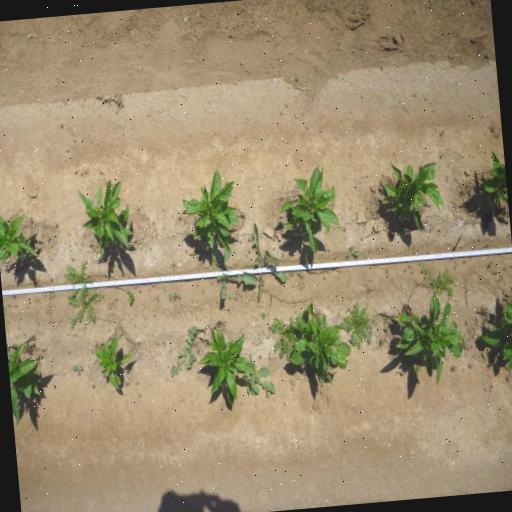plant: (391, 292, 465, 387), (275, 162, 344, 258), (289, 302, 353, 390), (378, 154, 446, 234), (180, 168, 242, 252), (196, 325, 256, 409), (76, 178, 133, 261), (7, 341, 44, 425), (481, 285, 512, 373), (94, 334, 135, 392), (0, 209, 40, 266), (480, 147, 508, 208)
weed: (240, 223, 288, 303), (60, 258, 108, 330), (216, 249, 258, 301), (267, 308, 307, 361), (166, 325, 200, 377), (340, 302, 374, 351), (242, 352, 277, 395), (429, 265, 458, 297), (403, 361, 424, 382), (419, 262, 431, 280), (346, 246, 360, 260), (126, 290, 136, 304), (71, 364, 83, 375), (210, 252, 219, 266), (228, 292, 238, 302), (172, 291, 182, 301), (260, 311, 268, 320), (487, 260, 494, 270), (380, 336, 386, 346), (383, 316, 392, 322), (492, 270, 499, 277), (452, 364, 458, 372), (334, 252, 340, 260), (289, 270, 295, 278), (34, 296, 40, 304), (30, 334, 38, 340), (468, 362, 474, 369), (386, 268, 390, 278), (168, 293, 173, 301), (482, 316, 488, 322), (46, 236, 52, 242), (24, 304, 30, 310), (193, 218, 197, 225), (300, 274, 304, 280), (54, 222, 60, 226), (385, 328, 390, 332), (248, 236, 252, 241), (241, 212, 246, 216), (126, 381, 130, 386), (114, 296, 118, 301), (266, 392, 269, 398), (259, 354, 262, 360), (162, 340, 165, 346), (148, 286, 151, 292), (404, 268, 408, 272), (138, 289, 142, 293), (136, 381, 140, 385), (126, 369, 130, 373), (92, 384, 96, 388), (14, 303, 17, 308), (464, 188, 466, 194), (462, 202, 464, 208), (298, 270, 300, 276), (268, 350, 271, 354), (198, 348, 200, 354), (184, 220, 187, 224), (164, 286, 166, 292), (138, 394, 142, 397), (91, 350, 94, 354), (196, 282, 199, 286), (28, 300, 31, 304), (203, 288, 205, 293), (96, 244, 99, 247), (249, 248, 251, 252), (178, 216, 182, 218), (152, 282, 154, 286), (52, 294, 56, 296), (40, 354, 42, 358), (90, 243, 92, 246)
